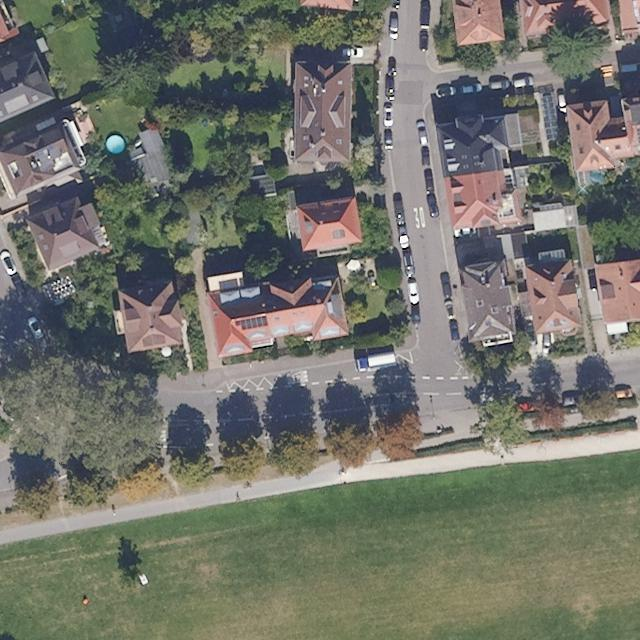PV: (234, 314, 269, 331)
